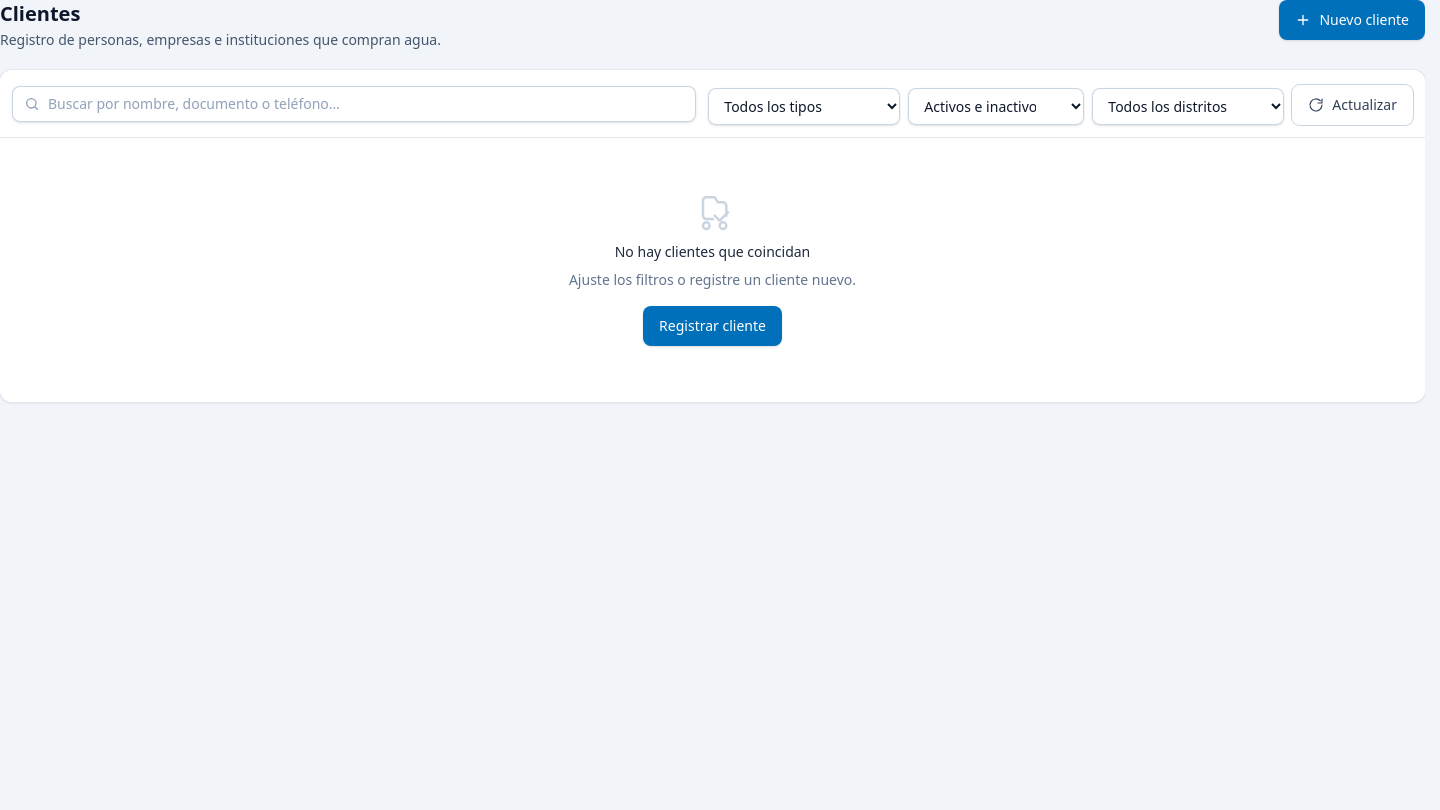
alta de cliente › avisa antes de dejar enviar un RUC que no tiene once dígitos
This screenshot has width=1440, height=810.
Click the button "Nuevo cliente": (1352, 20) x1=1279 y1=0 x2=1425 y2=40
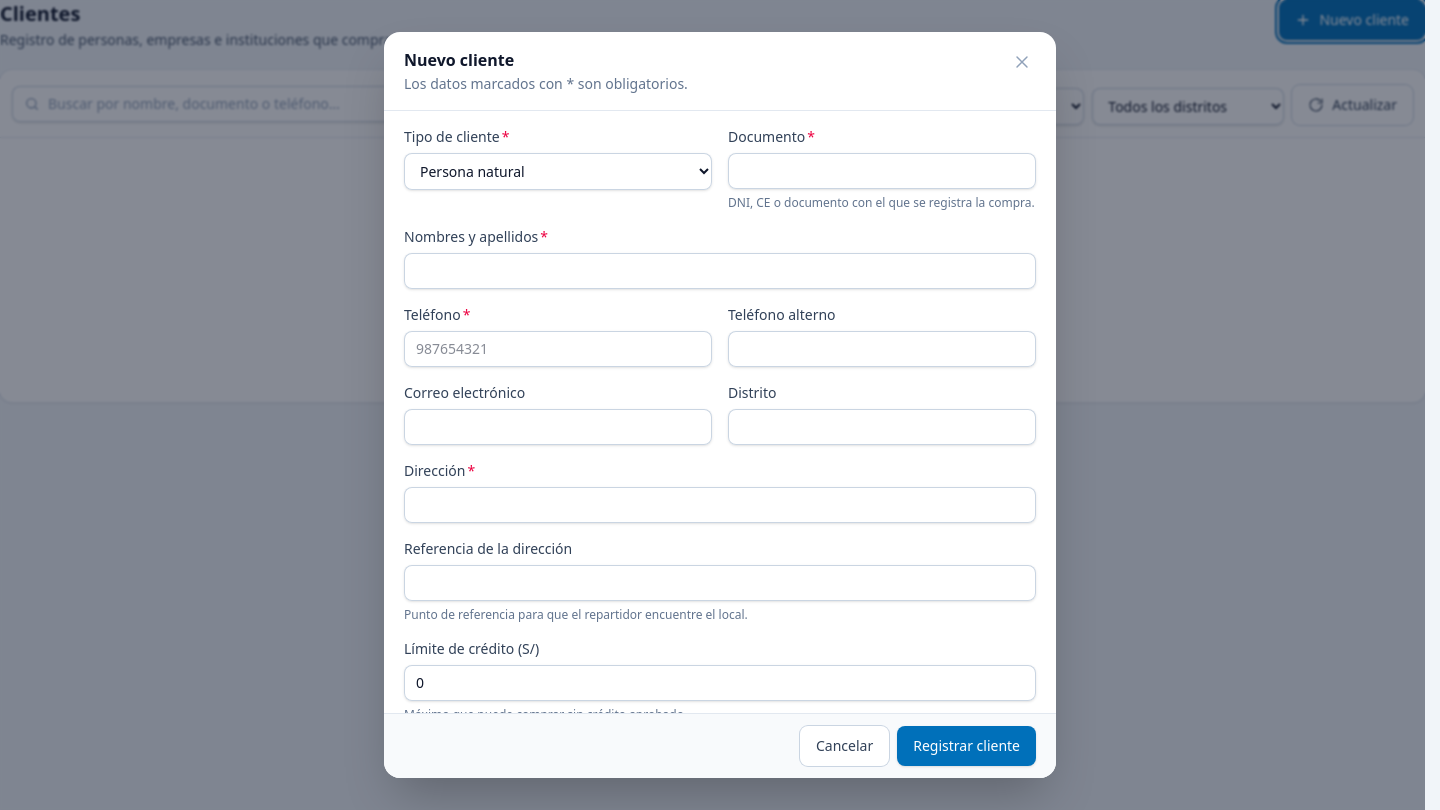
Select "Empresa" in the dropdown labelled "Tipo de cliente*": (558, 172) x1=404 y1=153 x2=712 y2=190
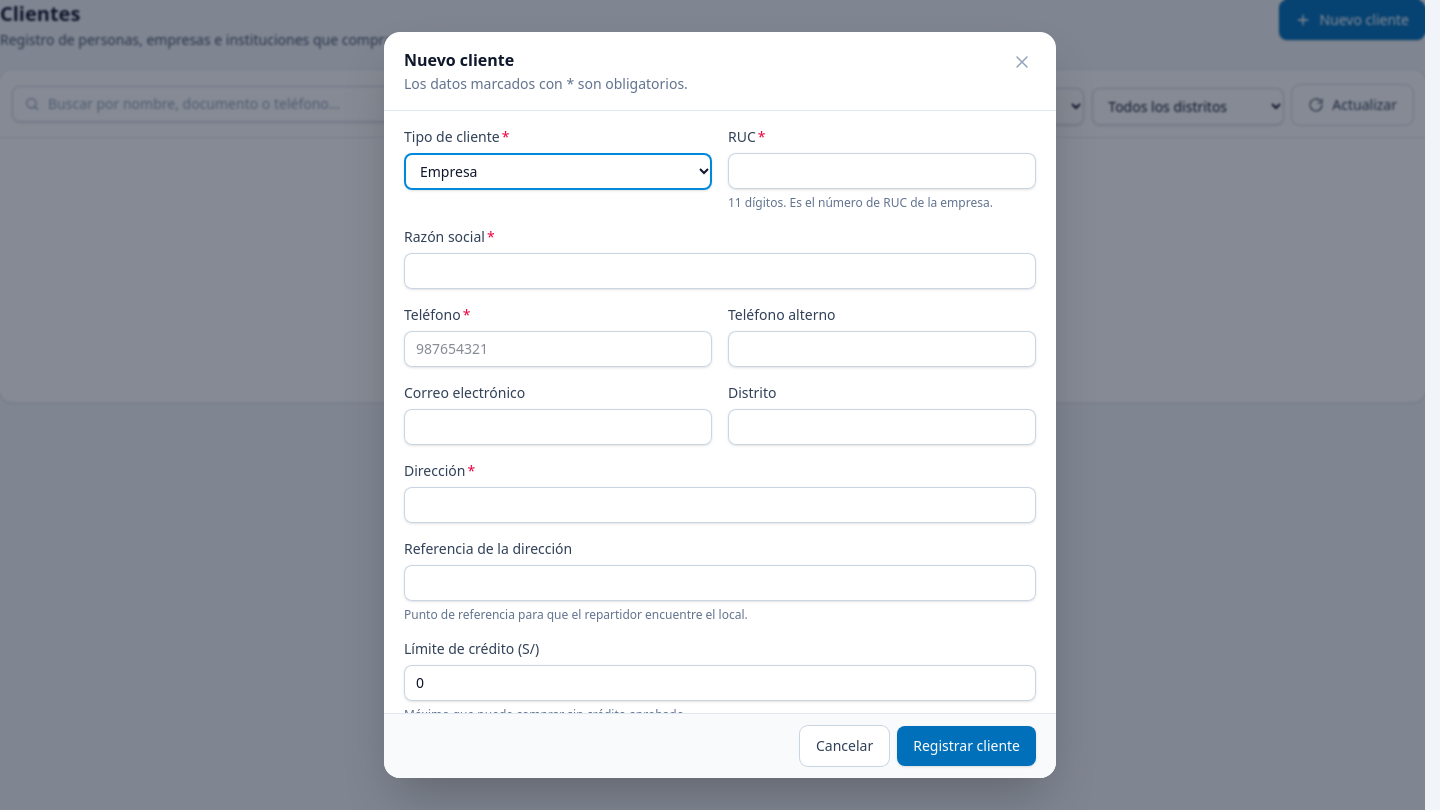
In the field labelled "RUC*": (882, 171) x1=728 y1=153 x2=1036 y2=189, type "205098765"
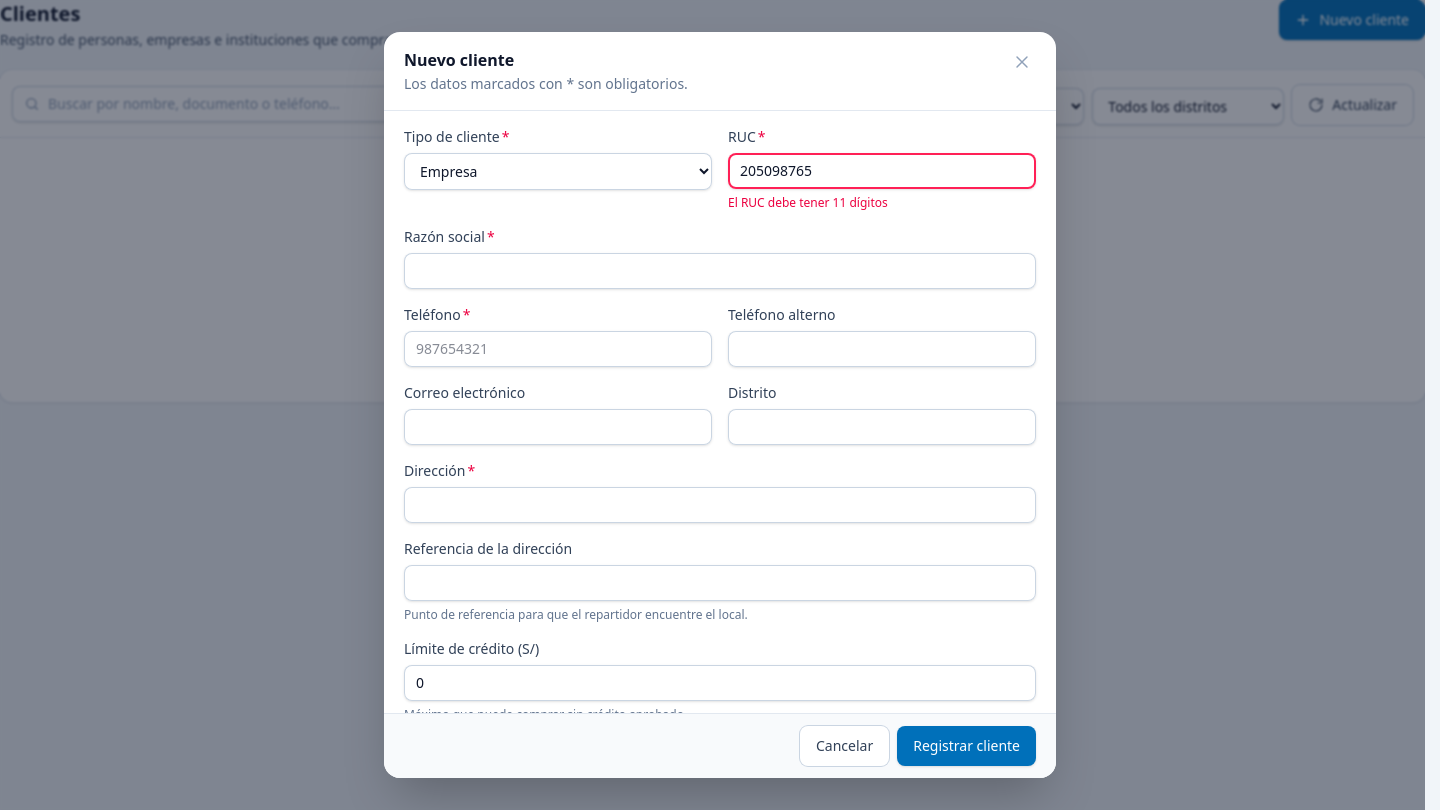
Expected: the text "El RUC debe tener 11 dígitos" is shown, x1=728 y1=194 x2=888 y2=211
